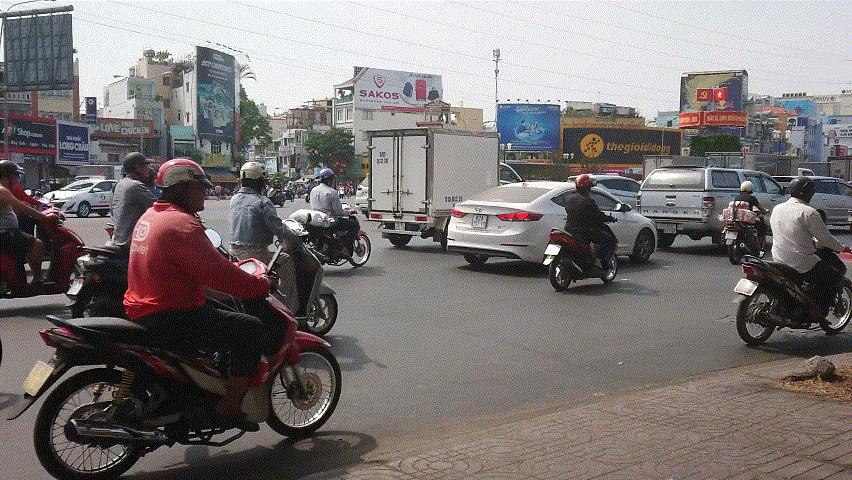driver: (0, 157, 342, 480), (732, 176, 852, 344), (227, 158, 339, 337), (0, 160, 85, 300), (540, 172, 623, 293), (288, 167, 371, 268), (723, 180, 771, 264)
helmet: (154, 158, 215, 213), (121, 150, 157, 181), (239, 161, 270, 195), (789, 177, 817, 203), (0, 159, 24, 189), (575, 172, 595, 196), (319, 168, 336, 187), (740, 180, 754, 195)
